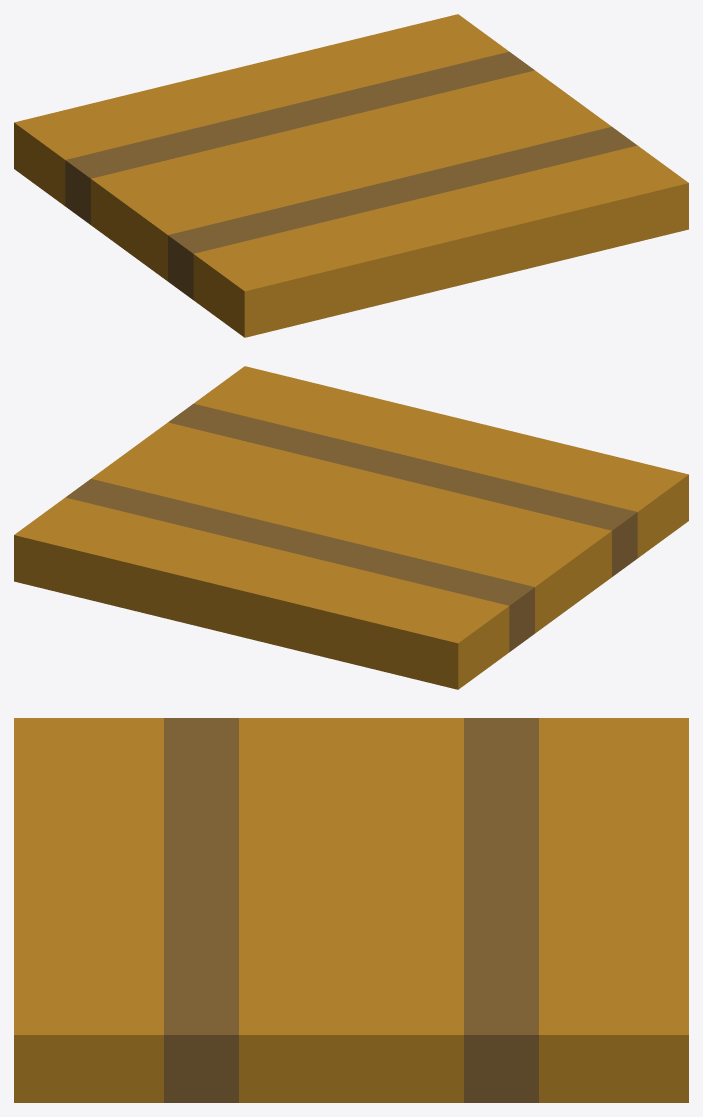
The model's file is DesertProps-4-GroundRoad.obj.
3 views of the same model, one above another, from view 1: azimuth 30°, elevation 25°; view 2: azimuth 150°, elevation 25°; view 3: azimuth 270°, elevation 25° (orthographic). The views are drawn at different scales.
Parts seen in each view (by area): view 1: GroundRoad; view 2: GroundRoad; view 3: GroundRoad.
Boxes of the visible parts, x1,y1,x2,y2 form: GroundRoad: [14, 14, 688, 337]; GroundRoad: [14, 366, 688, 689]; GroundRoad: [14, 718, 688, 1102].
Bounding box in the file's own units: 1 × 0.1 × 0.9.
Materials: 1 (1 with a texture image).
